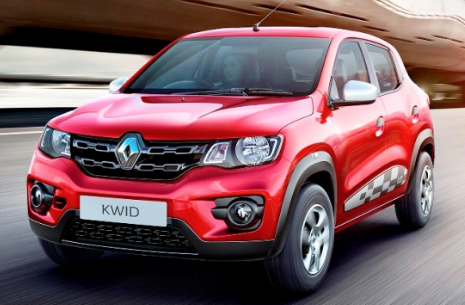car: (24, 22, 438, 296)
